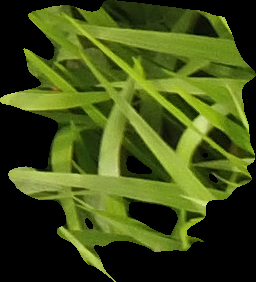grass: (1, 1, 254, 281)
